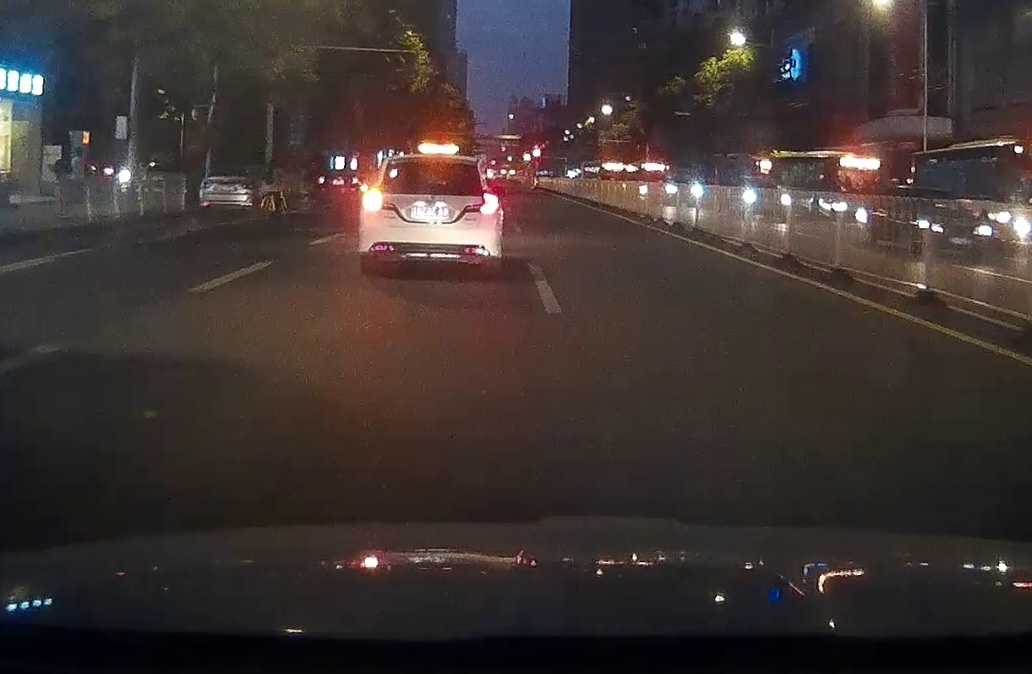L_light: (361, 189, 383, 210)
R_light: (478, 193, 500, 214)
T_light: (422, 159, 446, 163)
night-no: (359, 153, 503, 275)
